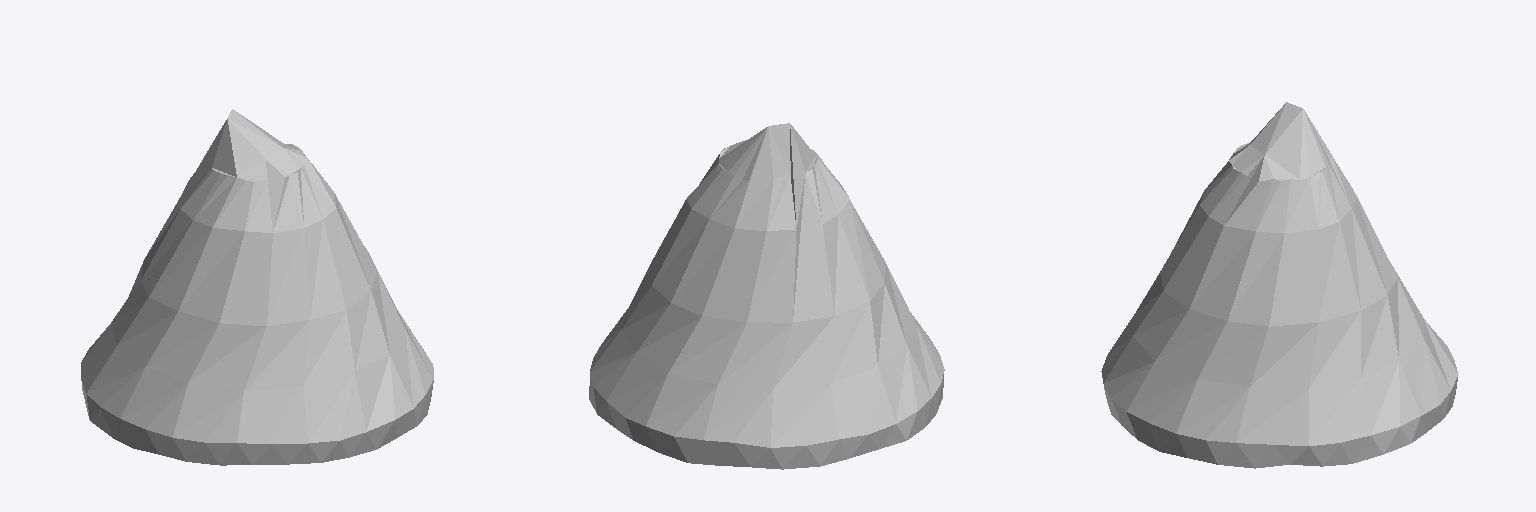
File: Strawberry Icecream.obj
3 views of the same model, side by side, from view 1: azimuth 30°, elevation 25°; view 2: azimuth 150°, elevation 25°; view 3: azimuth 270°, elevation 25° (orthographic).
Visible parts, largest first — view 1: Strawberry_Icecream; view 2: Strawberry_Icecream; view 3: Strawberry_Icecream.
Part boxes in pixels (bbox=[...]): Strawberry_Icecream: bbox=[81, 109, 433, 465]; Strawberry_Icecream: bbox=[589, 123, 944, 469]; Strawberry_Icecream: bbox=[1101, 102, 1458, 468].
Bounding box in the file's own units: 0.093 × 0.0825 × 0.0943.